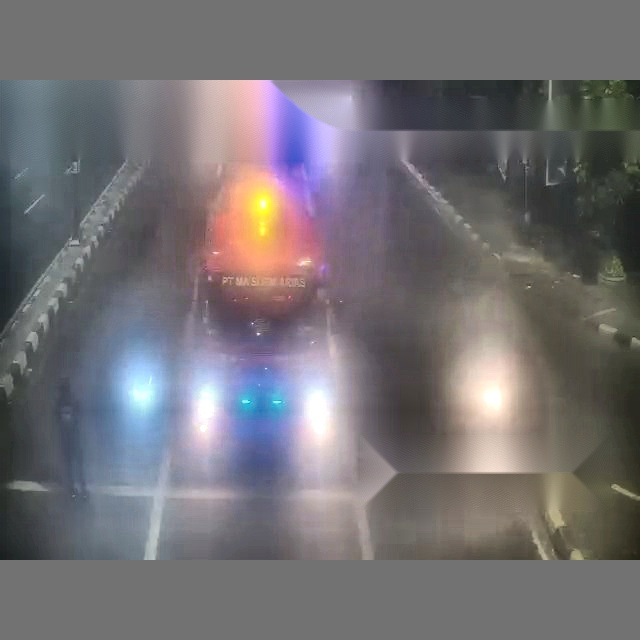Bis: (0, 82, 136, 406)
